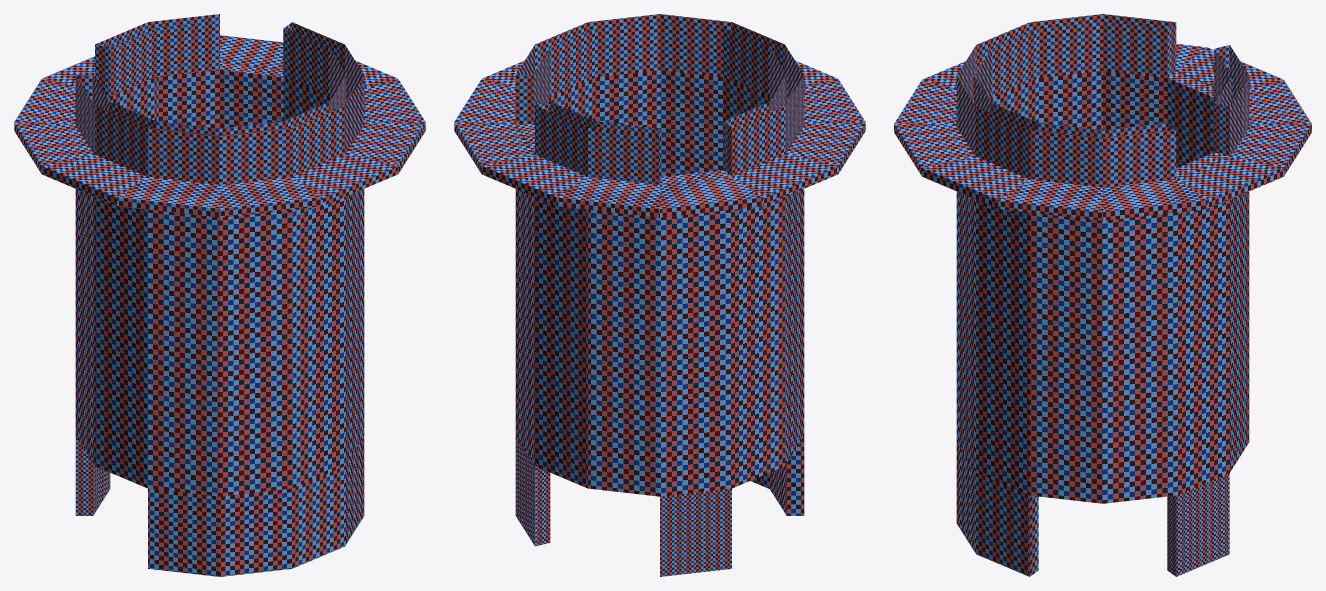
The model's file is Observation_tower.fbx.
The picture shows the model from 3 angles, left to right: view 1: azimuth 30°, elevation 25°; view 2: azimuth 150°, elevation 25°; view 3: azimuth 270°, elevation 25°; orthographic projection.
Visible parts, largest first — view 1: Observation_tower; view 2: Observation_tower; view 3: Observation_tower.
Boxes of the visible parts, <box> form: Observation_tower: <box>14,14,425,576</box>; Observation_tower: <box>454,14,865,576</box>; Observation_tower: <box>894,14,1311,576</box>.
Size of the model in its own units: 2852 by 3372 by 2852.
1 material, 1 textured.
